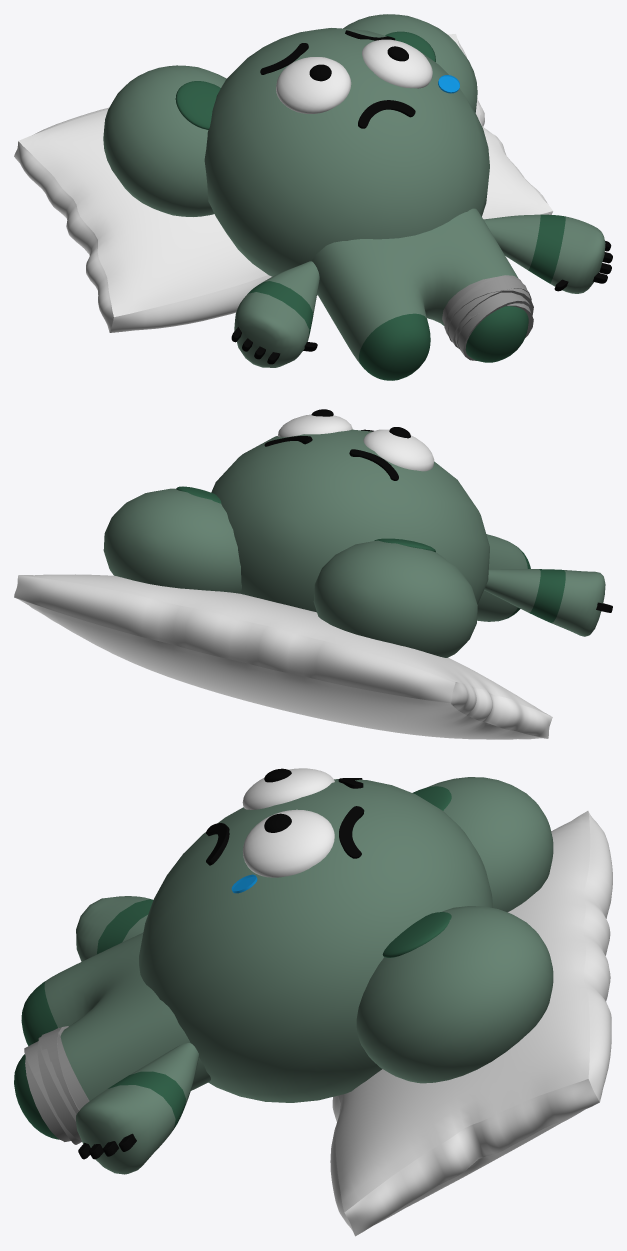
Rendered from compression.fbx.
3 views of the same model, one above another, from view 1: azimuth 30°, elevation 25°; view 2: azimuth 150°, elevation 25°; view 3: azimuth 270°, elevation 25° (orthographic). The views are drawn at different scales.
Parts seen in each view (by area): view 1: head, polySurface2, body, right_ear, left_hand, right_hand, left_ear, right_eye, left_eye, pCylinder2, pCylinder5, pCylinder3 (+1 smaller); view 2: polySurface2, head, right_ear, left_ear, right_hand, right_eye, body, left_eye, mouth2; view 3: head, polySurface2, left_ear, body, right_ear, left_hand, left_eye, right_hand, right_eye, pCylinder2, pCylinder3, pCylinder4 (+2 smaller).
Boxes of the visible parts, x1,y1,x2,y2 form: head: (204, 28, 489, 295); polySurface2: (14, 34, 552, 332); body: (312, 208, 528, 380); right_ear: (103, 65, 226, 216); left_hand: (483, 214, 605, 293); right_hand: (234, 261, 319, 367); left_ear: (343, 14, 477, 112); right_eye: (276, 57, 351, 113); left_eye: (362, 39, 432, 88); pCylinder2: (442, 277, 533, 341); pCylinder5: (455, 292, 532, 360); pCylinder3: (444, 275, 531, 348); polySurface2: (14, 574, 552, 739); head: (211, 429, 489, 612); right_ear: (313, 538, 477, 657); left_ear: (103, 486, 241, 593); right_hand: (484, 569, 605, 636); right_eye: (363, 427, 434, 471); body: (477, 534, 530, 621); left_eye: (278, 409, 352, 437); mouth2: (349, 449, 398, 480); head: (139, 779, 492, 1102); polySurface2: (330, 811, 612, 1236); left_ear: (356, 906, 553, 1083); body: (14, 933, 210, 1139); right_ear: (413, 777, 553, 912); left_hand: (76, 1043, 199, 1174); left_eye: (243, 809, 334, 877); right_hand: (76, 896, 153, 961); right_eye: (242, 768, 334, 809); pCylinder2: (37, 1026, 81, 1141); pCylinder3: (38, 1028, 89, 1121); pCylinder4: (25, 1057, 70, 1141).
Size of the model in its own units: 18.48 by 10.17 by 17.19.
